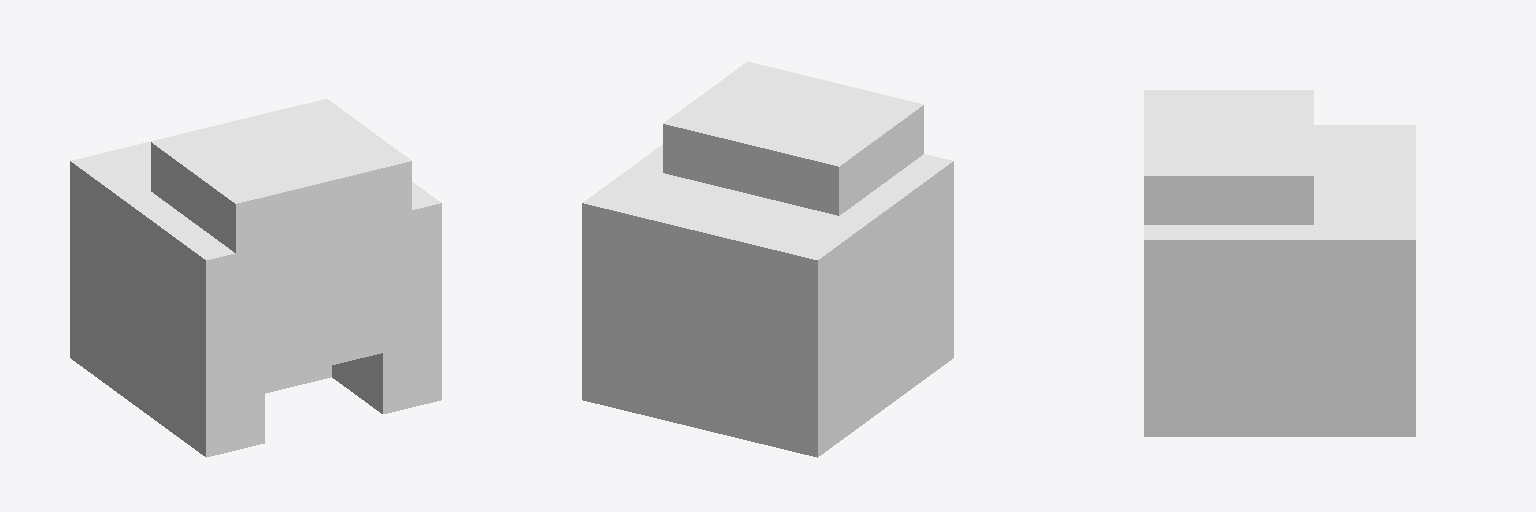
The model's file is Enemy2_3.obj.
The picture shows the model from 3 angles: view 1: azimuth 30°, elevation 25°; view 2: azimuth 150°, elevation 25°; view 3: azimuth 270°, elevation 25°; orthographic projection.
Visible parts, largest first — view 1: Enemy2_3; view 2: Enemy2_3; view 3: Enemy2_3.
Part boxes in pixels (bbox=[...]): Enemy2_3: bbox=[70, 99, 441, 457]; Enemy2_3: bbox=[582, 62, 953, 457]; Enemy2_3: bbox=[1144, 90, 1415, 436].
Bounding box in the file's own units: 40 × 40 × 40.